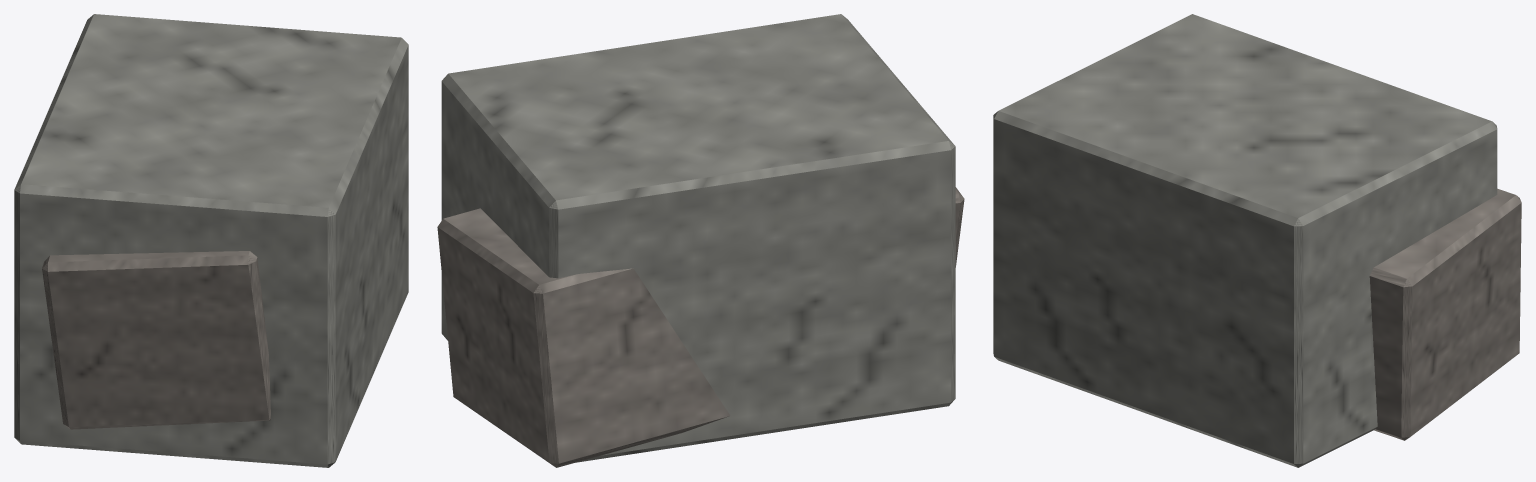
The model's file is Rocher_Moyen_B.obj.
The picture shows the model from 3 angles, left to right: view 1: azimuth 30°, elevation 25°; view 2: azimuth 150°, elevation 25°; view 3: azimuth 270°, elevation 25°; orthographic projection. The views are drawn at different scales.
Visible parts, largest first — view 1: Rocher_Moyen_B; view 2: Rocher_Moyen_B; view 3: Rocher_Moyen_B.
Part boxes in pixels (x1,y1,x2,y2): Rocher_Moyen_B: (14,14,408,467); Rocher_Moyen_B: (437,14,964,467); Rocher_Moyen_B: (993,14,1521,467).
Size of the model in its own units: 4.42 by 2.51 by 4.73.
1 material, 1 textured.
